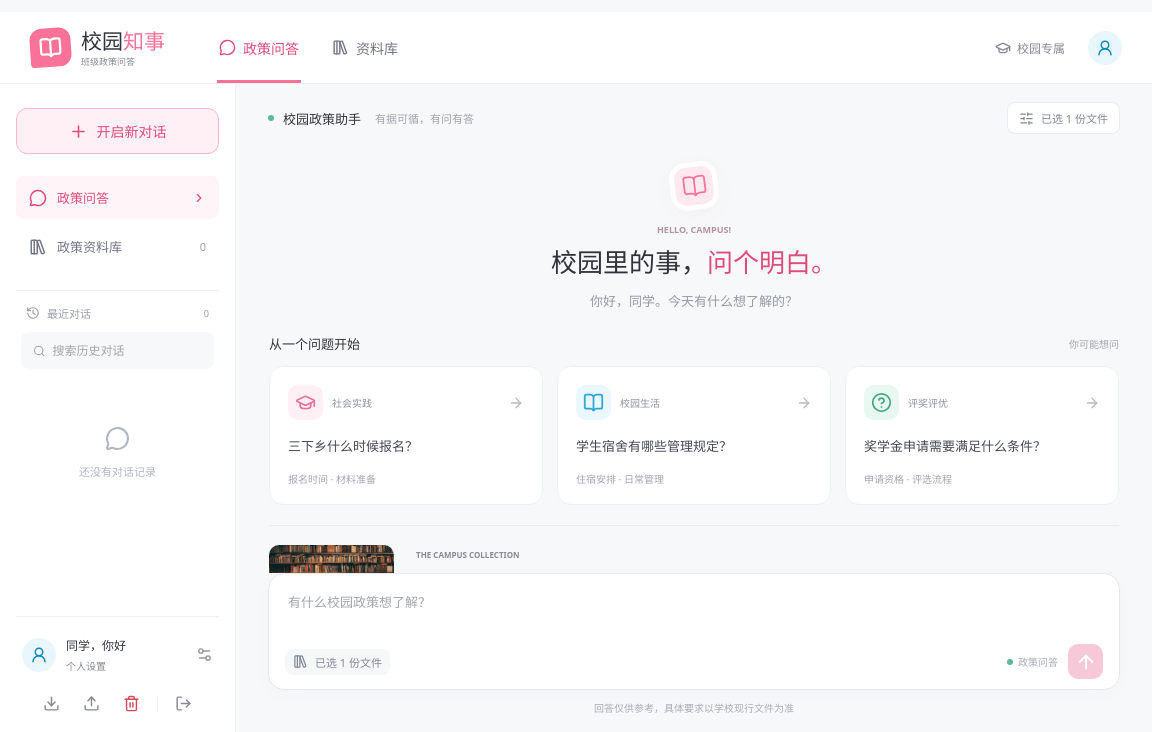
partial answer survives network
Step 1. Type "问题" into the text box named "问题" → x=694, y=616, box [285,588,1103,644]
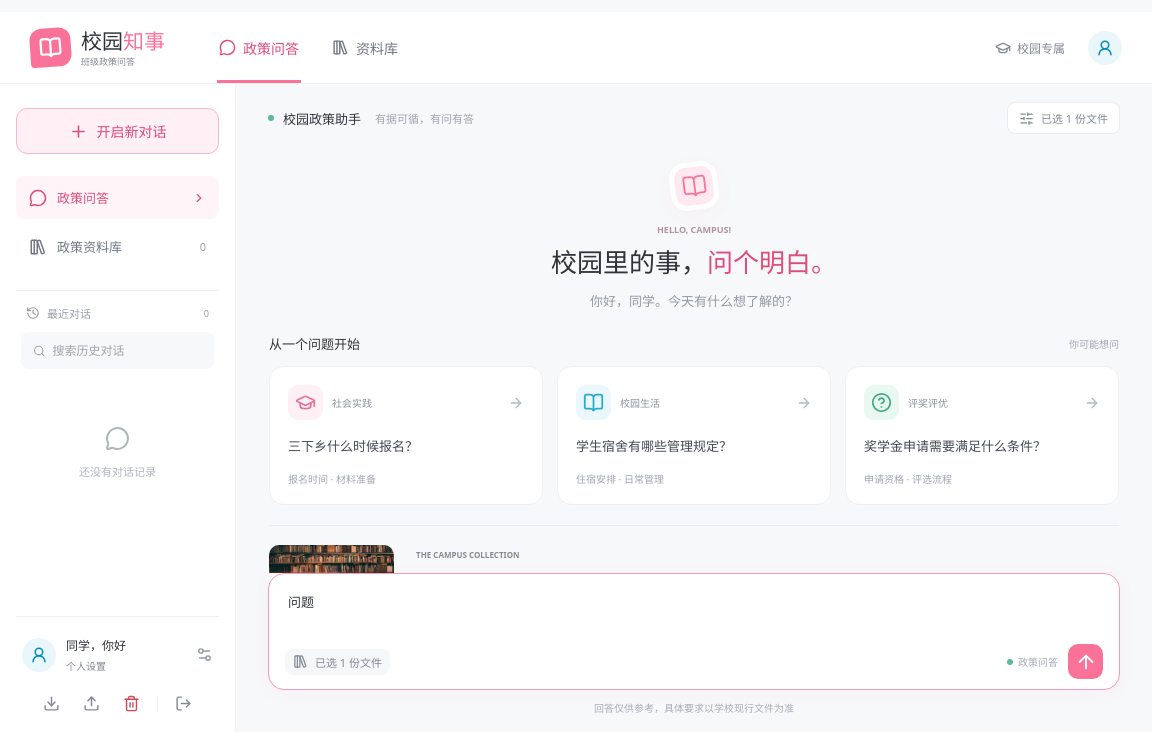
Step 2. Click the button named "发送" → x=1086, y=662, box [1068,644,1103,679]
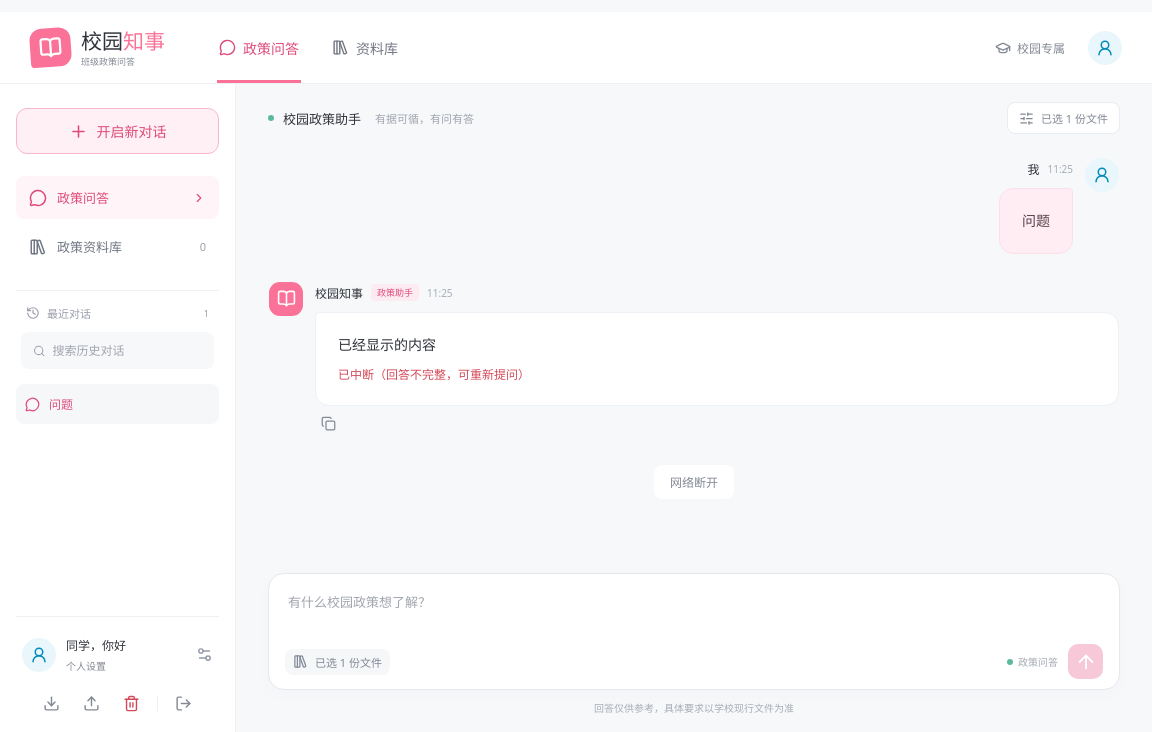
Expected: the text "已经显示的内容" is shown, [338,335,436,354]
